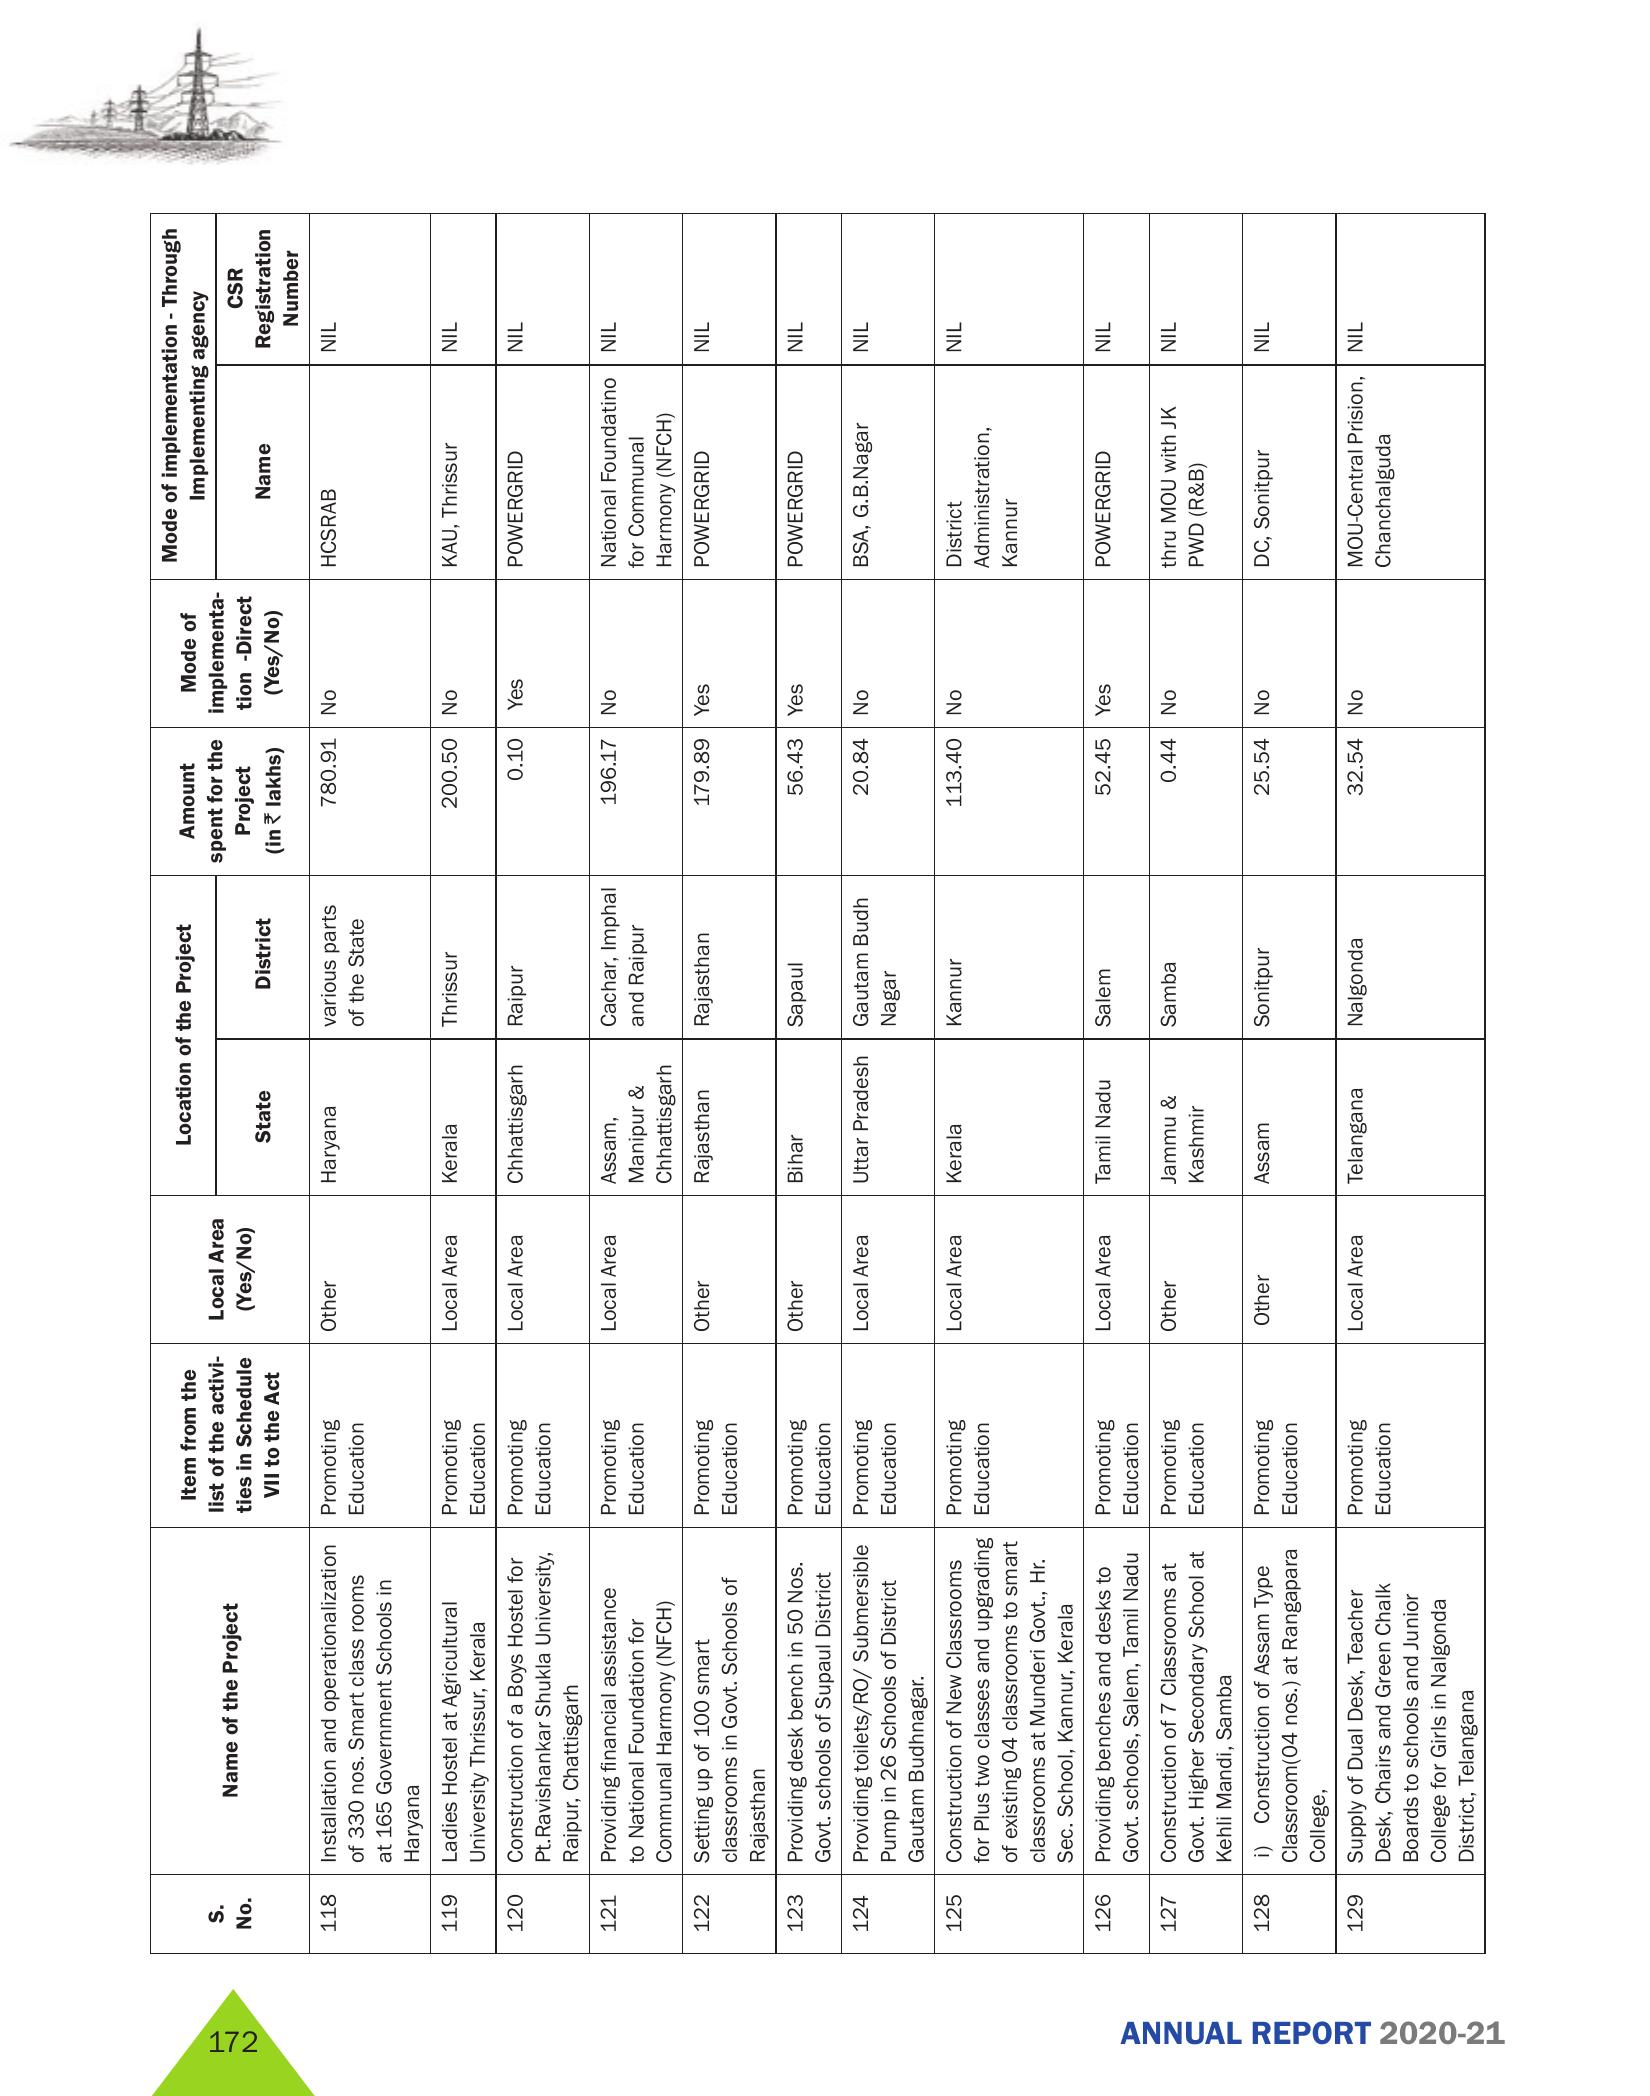Footer: (0, 1956, 1650, 2096)
Header: (0, 0, 1650, 175)
Table: (85, 196, 1521, 1962)
